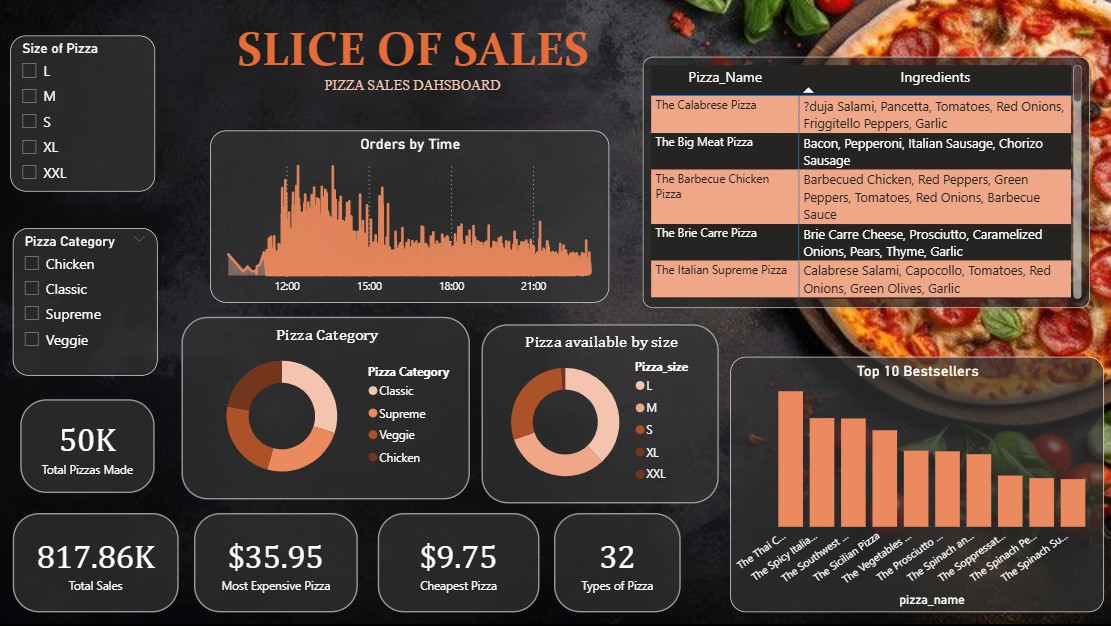

This screenshot's page, from the dashboard's own definition file:
{"tool":"powerbi","page":{"name":"Page 1","canvas":[1280,720],"ordinal":0},"visuals":[{"type":"card","fields":{"Values":["Pizza sales dataset.Cheapest Pizza"]},"box":[439.1,588.7,184.6,113.4],"z":0},{"type":"card","fields":{"Values":["Pizza sales dataset.Most Expensive Pizza"]},"box":[229.2,588.7,187,113.4],"z":1000},{"type":"card","fields":{"Values":["Count(Pizza sales dataset.pizza_name)"]},"box":[639.4,588.7,144.8,113.4],"z":2000},{"type":"slicer","fields":{"Values":["Pizza sales dataset.pizza_size"]},"box":[18.1,43.4,165.3,178.6],"z":3000},{"type":"slicer","fields":{"Values":["Pizza sales dataset.pizza_category"]},"box":[21.7,263,165.3,168.9],"z":4000},{"type":"donutChart","title":"Pizza Category","fields":{"Category":["Pizza sales dataset.pizza_category"],"Y":["CountNonNull(Pizza sales dataset.pizza_name_id)"]},"box":[215,364.8,329.4,208.7],"z":5000},{"type":"donutChart","title":"Pizza available by size","fields":{"Category":["Pizza sales dataset.pizza_size"],"Y":["CountNonNull(Pizza sales dataset.pizza_name_id)"]},"box":[557.1,372.8,271.4,205.1],"z":6000},{"type":"clusteredColumnChart","title":"Top 10 Bestsellers","fields":{"Category":["Pizza sales dataset.pizza_name"],"Y":["Pizza sales dataset.Total Sales"]},"box":[840.9,410.2,427.1,292],"z":7000},{"type":"areaChart","title":"Orders by Time","fields":{"Category":["Pizza sales dataset.order_time"],"Y":["Sum(Pizza sales dataset.order_id)"]},"box":[247.3,151,456,196.6],"z":8000},{"type":"card","fields":{"Values":["Pizza sales dataset.Total Sales"]},"box":[21.7,588.7,189.4,113.4],"z":9000},{"type":"card","fields":{"Values":["Pizza sales dataset.Total Quantity"]},"box":[30.2,458.4,153.2,107.4],"z":10000},{"type":"pivotTable","fields":{"Rows":["Pizza sales dataset.pizza_name"],"Values":["Min(Pizza sales dataset.pizza_ingredients)"]},"box":[741.2,66.6,511.5,287.1],"z":11000},{"type":"textbox","box":[230.4,21.7,497.1,104.2],"z":11001}]}

Visuals, with their boxes in screenshot pixels (x1, y1, x2, y2), scaled from the page's 1280x720 canvas onto the 1111x626 screenshot:
card - Pizza sales dataset.Cheapest Pizza: (left=381, top=512, right=541, bottom=610)
card - Pizza sales dataset.Most Expensive Pizza: (left=199, top=512, right=361, bottom=610)
card - Count(Pizza sales dataset.pizza_name): (left=555, top=512, right=681, bottom=610)
slicer - Pizza sales dataset.pizza_size: (left=16, top=38, right=159, bottom=193)
slicer - Pizza sales dataset.pizza_category: (left=19, top=229, right=162, bottom=376)
"Pizza Category" donutChart: (left=187, top=317, right=473, bottom=499)
"Pizza available by size" donutChart: (left=484, top=324, right=719, bottom=502)
"Top 10 Bestsellers" clusteredColumnChart: (left=730, top=357, right=1101, bottom=611)
"Orders by Time" areaChart: (left=215, top=131, right=610, bottom=302)
card - Pizza sales dataset.Total Sales: (left=19, top=512, right=183, bottom=610)
card - Pizza sales dataset.Total Quantity: (left=26, top=399, right=159, bottom=492)
pivotTable - Pizza sales dataset.pizza_name x Min(Pizza sales dataset.pizza_ingredients): (left=643, top=58, right=1087, bottom=308)
textbox: (left=200, top=19, right=631, bottom=109)
